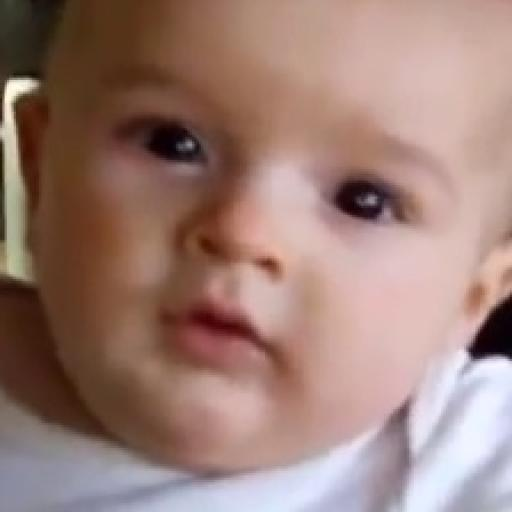Autism: (45, 0, 512, 512)
